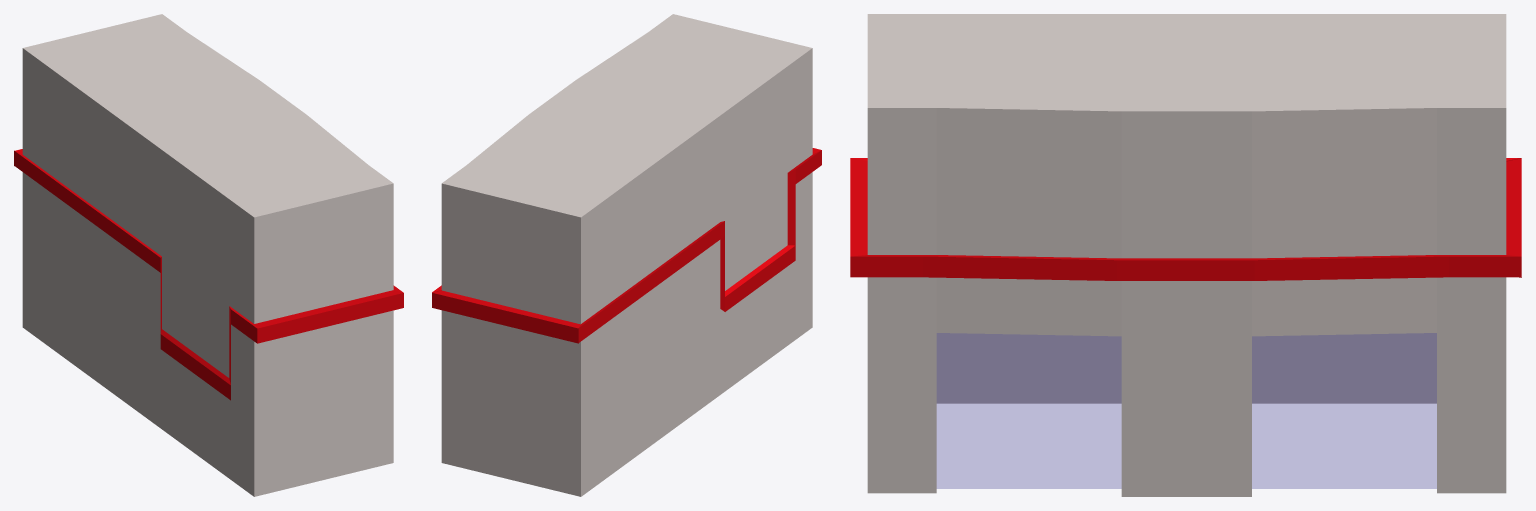
The model's file is Building.fbx.
The picture shows the model from 3 angles, left to right: view 1: azimuth 30°, elevation 25°; view 2: azimuth 150°, elevation 25°; view 3: azimuth 270°, elevation 25°; orthographic projection. The views are drawn at different scales.
Parts seen in each view (by area): view 1: Cube.001; view 2: Cube.001; view 3: Cube.001.
Boxes of the visible parts, x1=… form: Cube.001: x1=14, y1=14, x2=403, y2=496; Cube.001: x1=432, y1=14, x2=821, y2=496; Cube.001: x1=850, y1=14, x2=1521, y2=496.
Size of the model in its own units: 826 by 1450 by 2288.
